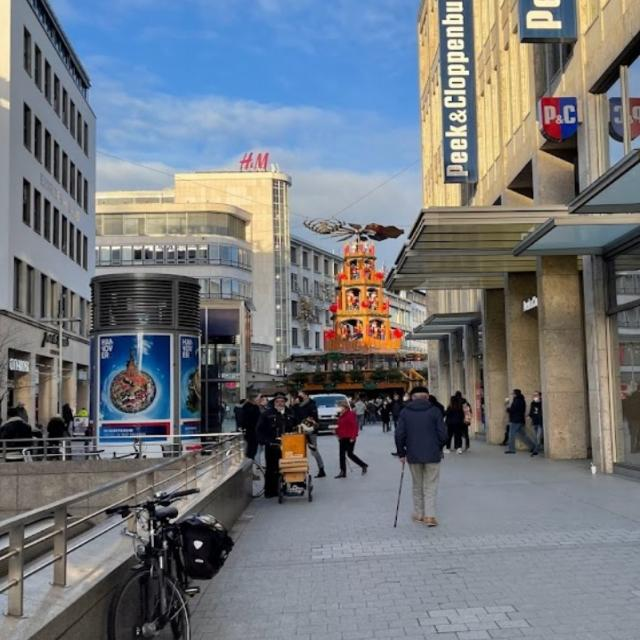Werbetafel frei: (96, 333, 176, 424)
